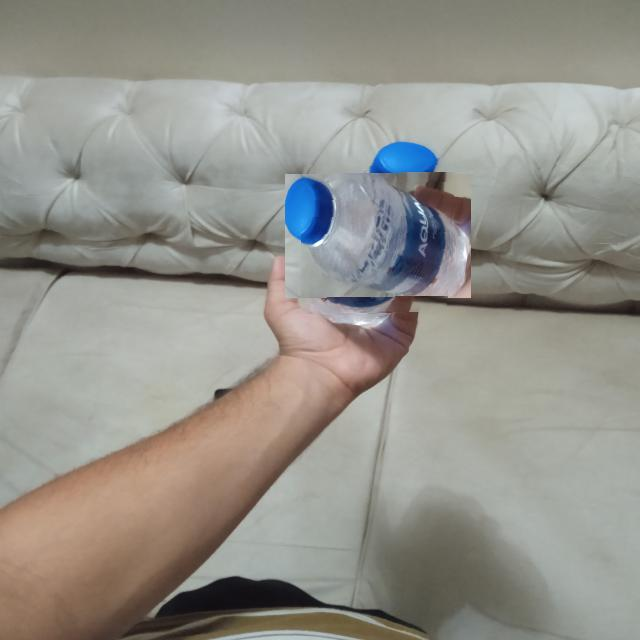Plastic: (301, 158, 456, 314)
